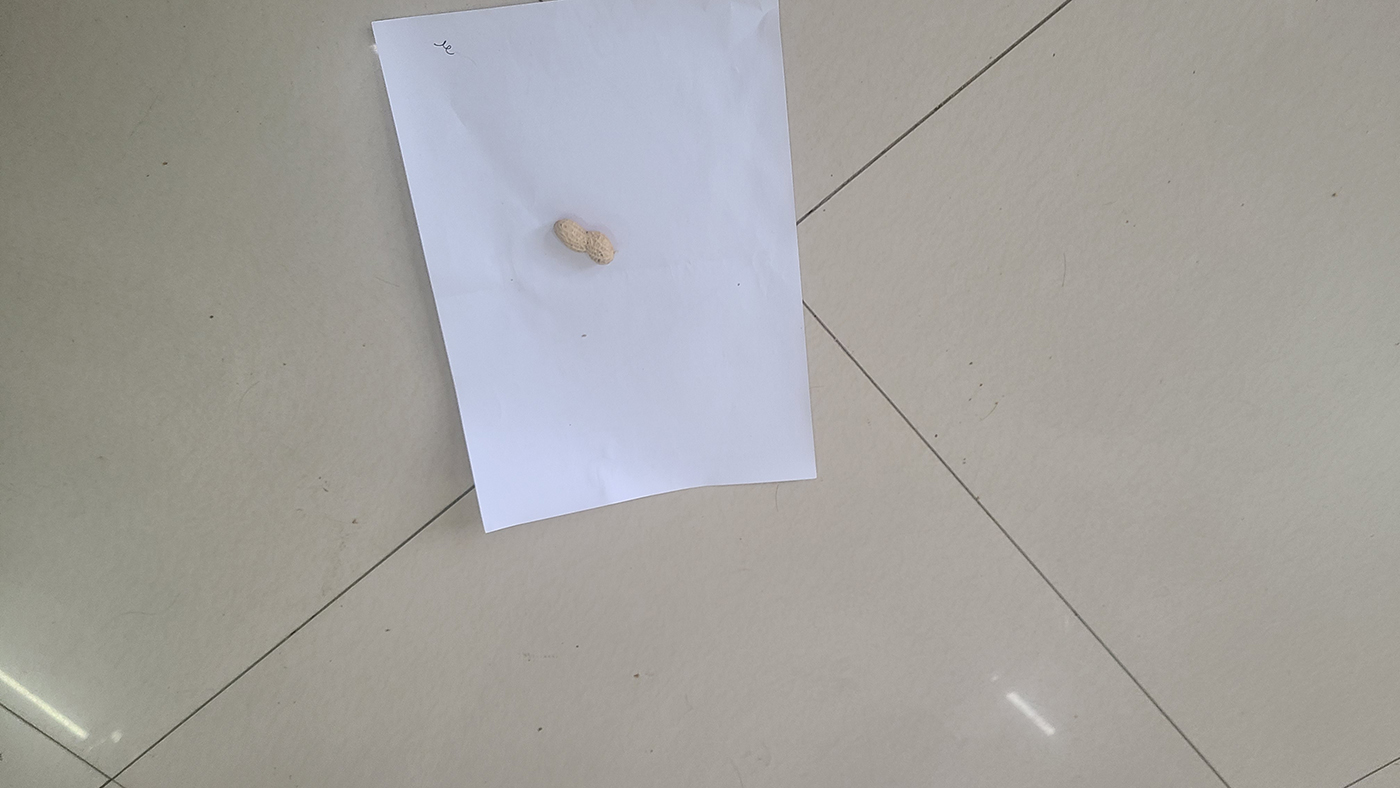h: (553, 218, 615, 265)
